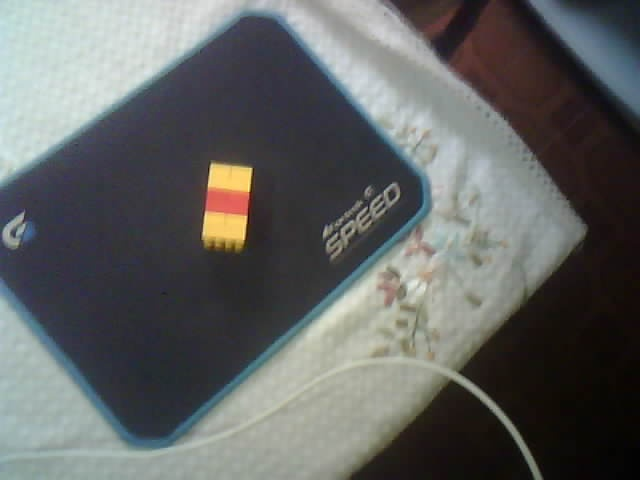lego: (200, 159, 253, 255)
